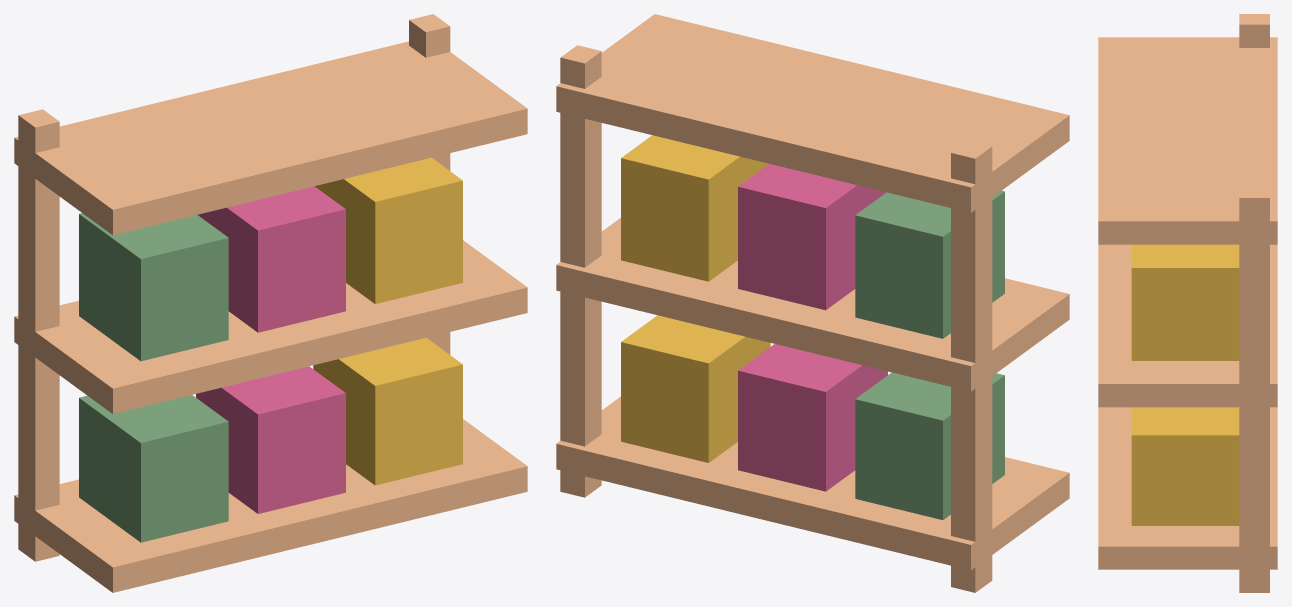
3 views of the same model, side by side, from view 1: azimuth 30°, elevation 25°; view 2: azimuth 150°, elevation 25°; view 3: azimuth 270°, elevation 25° (orthographic). The views are drawn at different scales.
Parts seen in each view (by area): view 1: Retail display shelf.002, Retail display shelf.001, Retail display shelf, Display package, Display package.003, Display upright, Display package.001, Display package.002, Display package.004, Display package.005, Display upright.001; view 2: Retail display shelf.002, Retail display shelf.001, Retail display shelf, Display upright, Display package.001, Display package.002, Display package.004, Display package.005, Display upright.001, Display package, Display package.003; view 3: Retail display shelf.002, Display package.002, Display package.005, Retail display shelf.001, Retail display shelf, Display upright.001, Display upright.
Boxes of the visible parts, x1,y1,x2,y2 form: Retail display shelf.002: [14, 41, 527, 235]; Retail display shelf.001: [14, 240, 527, 413]; Retail display shelf: [14, 419, 527, 592]; Display package: [79, 395, 228, 542]; Display package.003: [79, 213, 228, 361]; Display upright: [18, 109, 59, 561]; Display package.001: [196, 366, 345, 513]; Display package.002: [313, 337, 462, 485]; Display package.004: [197, 186, 345, 332]; Display package.005: [315, 157, 462, 303]; Display upright.001: [409, 14, 450, 354]; Retail display shelf.002: [556, 14, 1069, 212]; Retail display shelf.001: [556, 218, 1069, 391]; Retail display shelf: [556, 396, 1069, 570]; Display upright: [951, 140, 992, 592]; Display package.001: [738, 344, 887, 491]; Display package.002: [621, 315, 770, 462]; Display package.004: [738, 164, 885, 310]; Display package.005: [621, 135, 768, 281]; Display upright.001: [560, 45, 601, 497]; Display package: [855, 372, 1004, 519]; Display package.003: [855, 190, 1004, 338]; Retail display shelf.002: [1098, 37, 1277, 244]; Display package.002: [1131, 407, 1239, 525]; Display package.005: [1131, 244, 1239, 360]; Retail display shelf.001: [1098, 244, 1277, 407]; Retail display shelf: [1098, 407, 1277, 569]; Display upright.001: [1239, 187, 1269, 592]; Display upright: [1239, 14, 1269, 47].
Size of the model in its own units: 0.85 by 0.85 by 0.35.
1 material, 1 textured.
